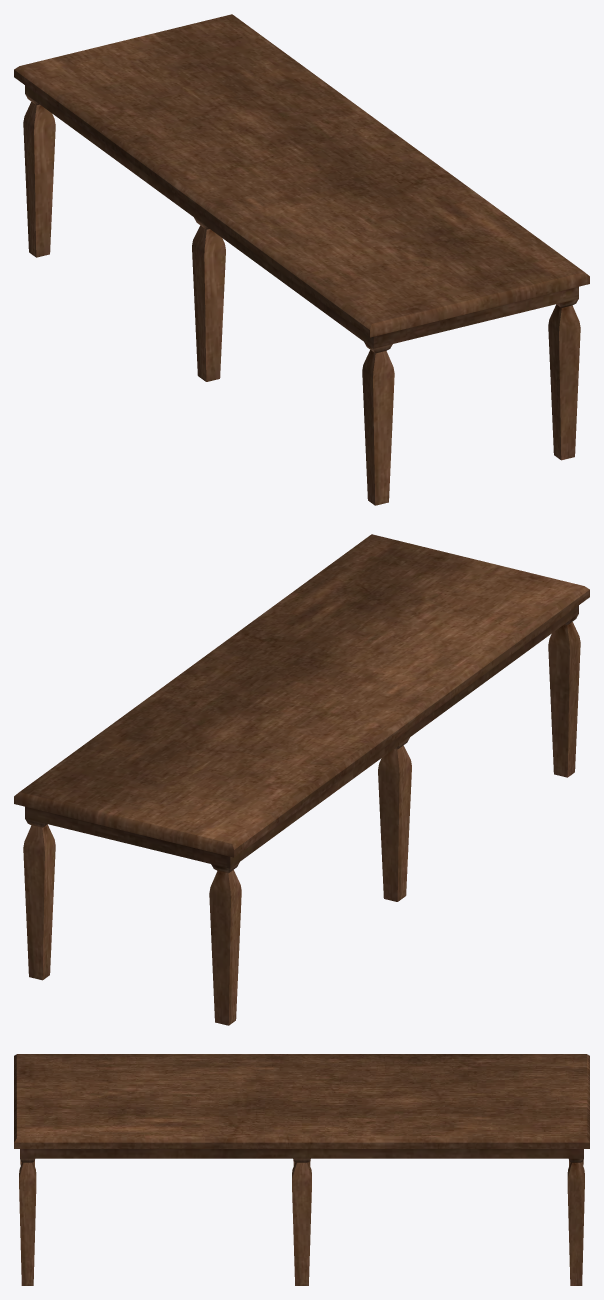
Rendered from table.glb.
3 views of the same model, one above another, from view 1: azimuth 30°, elevation 25°; view 2: azimuth 150°, elevation 25°; view 3: azimuth 270°, elevation 25° (orthographic). The views are drawn at different scales.
Parts seen in each view (by area): view 1: mesa_low_madera_mesas_sillas_0; view 2: mesa_low_madera_mesas_sillas_0; view 3: mesa_low_madera_mesas_sillas_0.
Boxes of the visible parts, x1,y1,x2,y2 form: mesa_low_madera_mesas_sillas_0: (14,14,589,505); mesa_low_madera_mesas_sillas_0: (14,534,589,1025); mesa_low_madera_mesas_sillas_0: (14,1054,589,1285).
Bounding box in the file's own units: 1.2 × 0.9672 × 3.36.
Materials: 1 (1 with a texture image).
